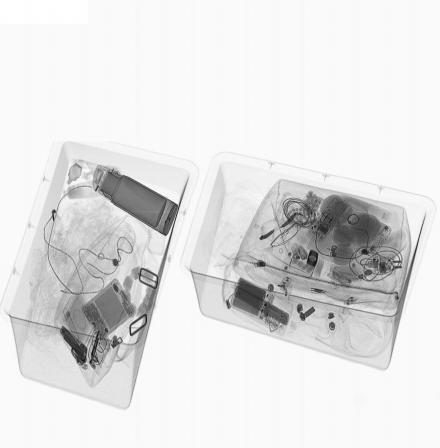Powerbank: (232, 275, 297, 337)
